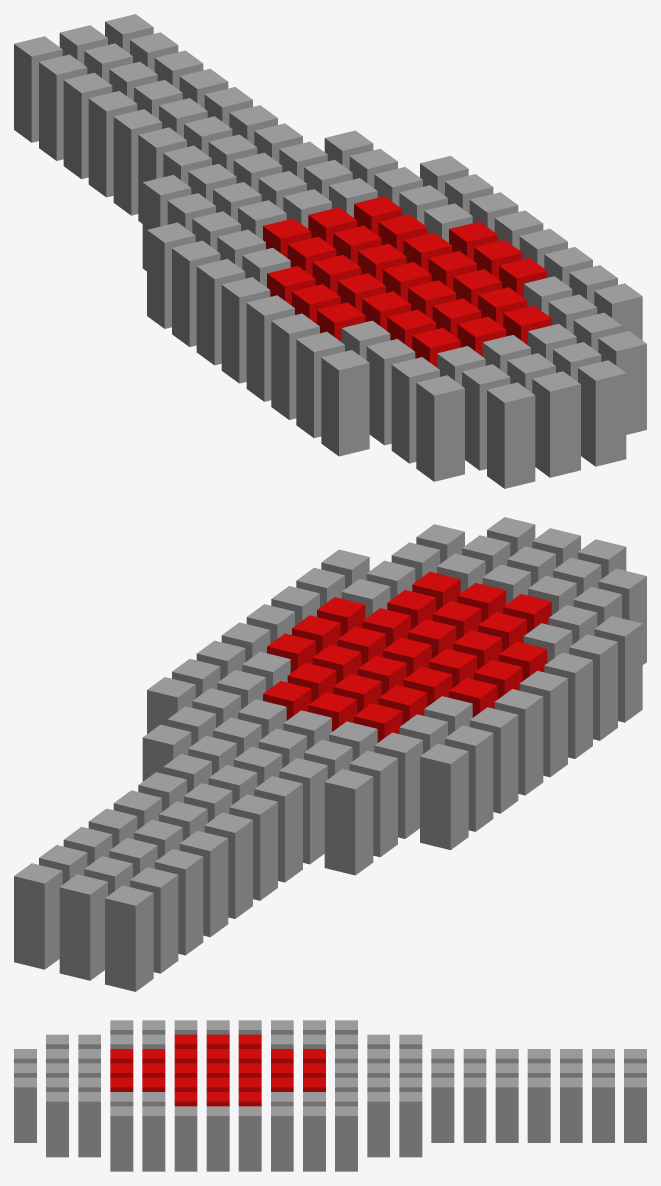
File: GlassBottleMesh.fbx
3 renders of one model, top to bottom at view 1: azimuth 30°, elevation 25°; view 2: azimuth 150°, elevation 25°; view 3: azimuth 270°, elevation 25°, orthographic. The views are drawn at different scales.
Visible parts, largest first — view 1: GlassBottleMesh; view 2: GlassBottleMesh; view 3: GlassBottleMesh.
Part boxes in pixels (bbox=[...]): GlassBottleMesh: bbox=[14, 14, 646, 488]; GlassBottleMesh: bbox=[14, 517, 646, 991]; GlassBottleMesh: bbox=[14, 1020, 646, 1171].
Bounding box in the file's own units: 31.2 × 8.45 × 87.28.
